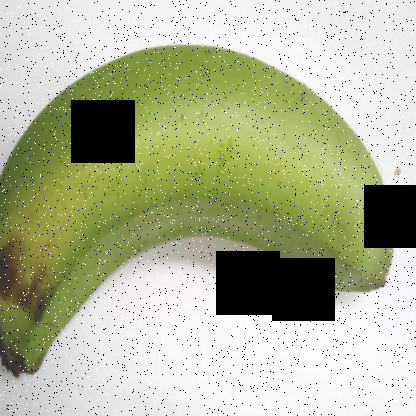freshunripe: (0, 15, 411, 392)
